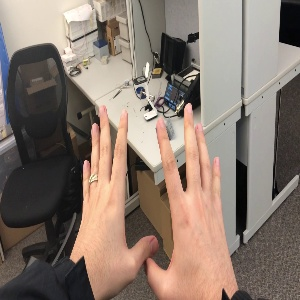hand: (146, 103, 238, 288), (71, 104, 158, 282)
